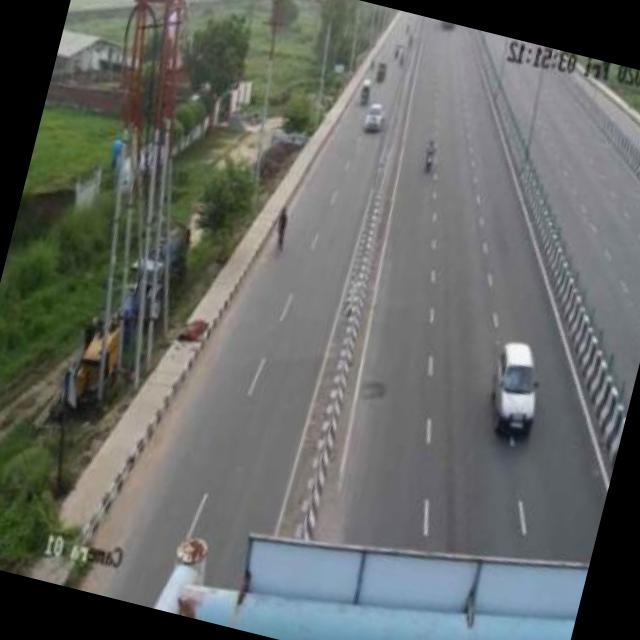car: (463, 322, 558, 451), (359, 92, 396, 138)
